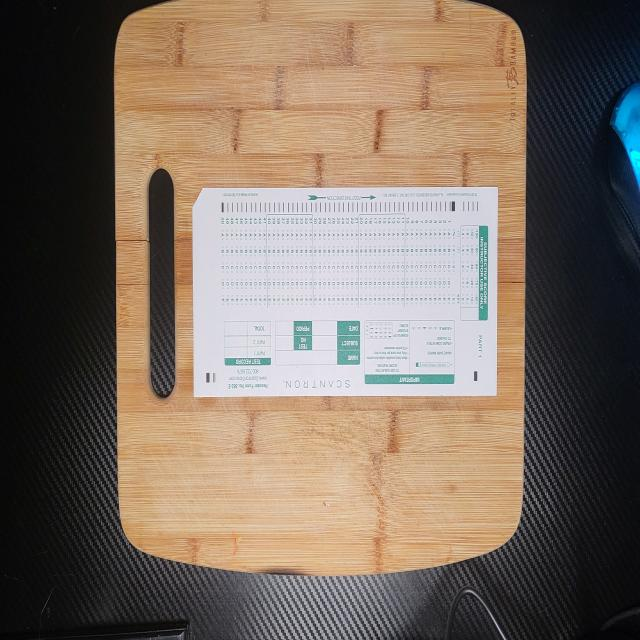scantron: (192, 187, 498, 397)
